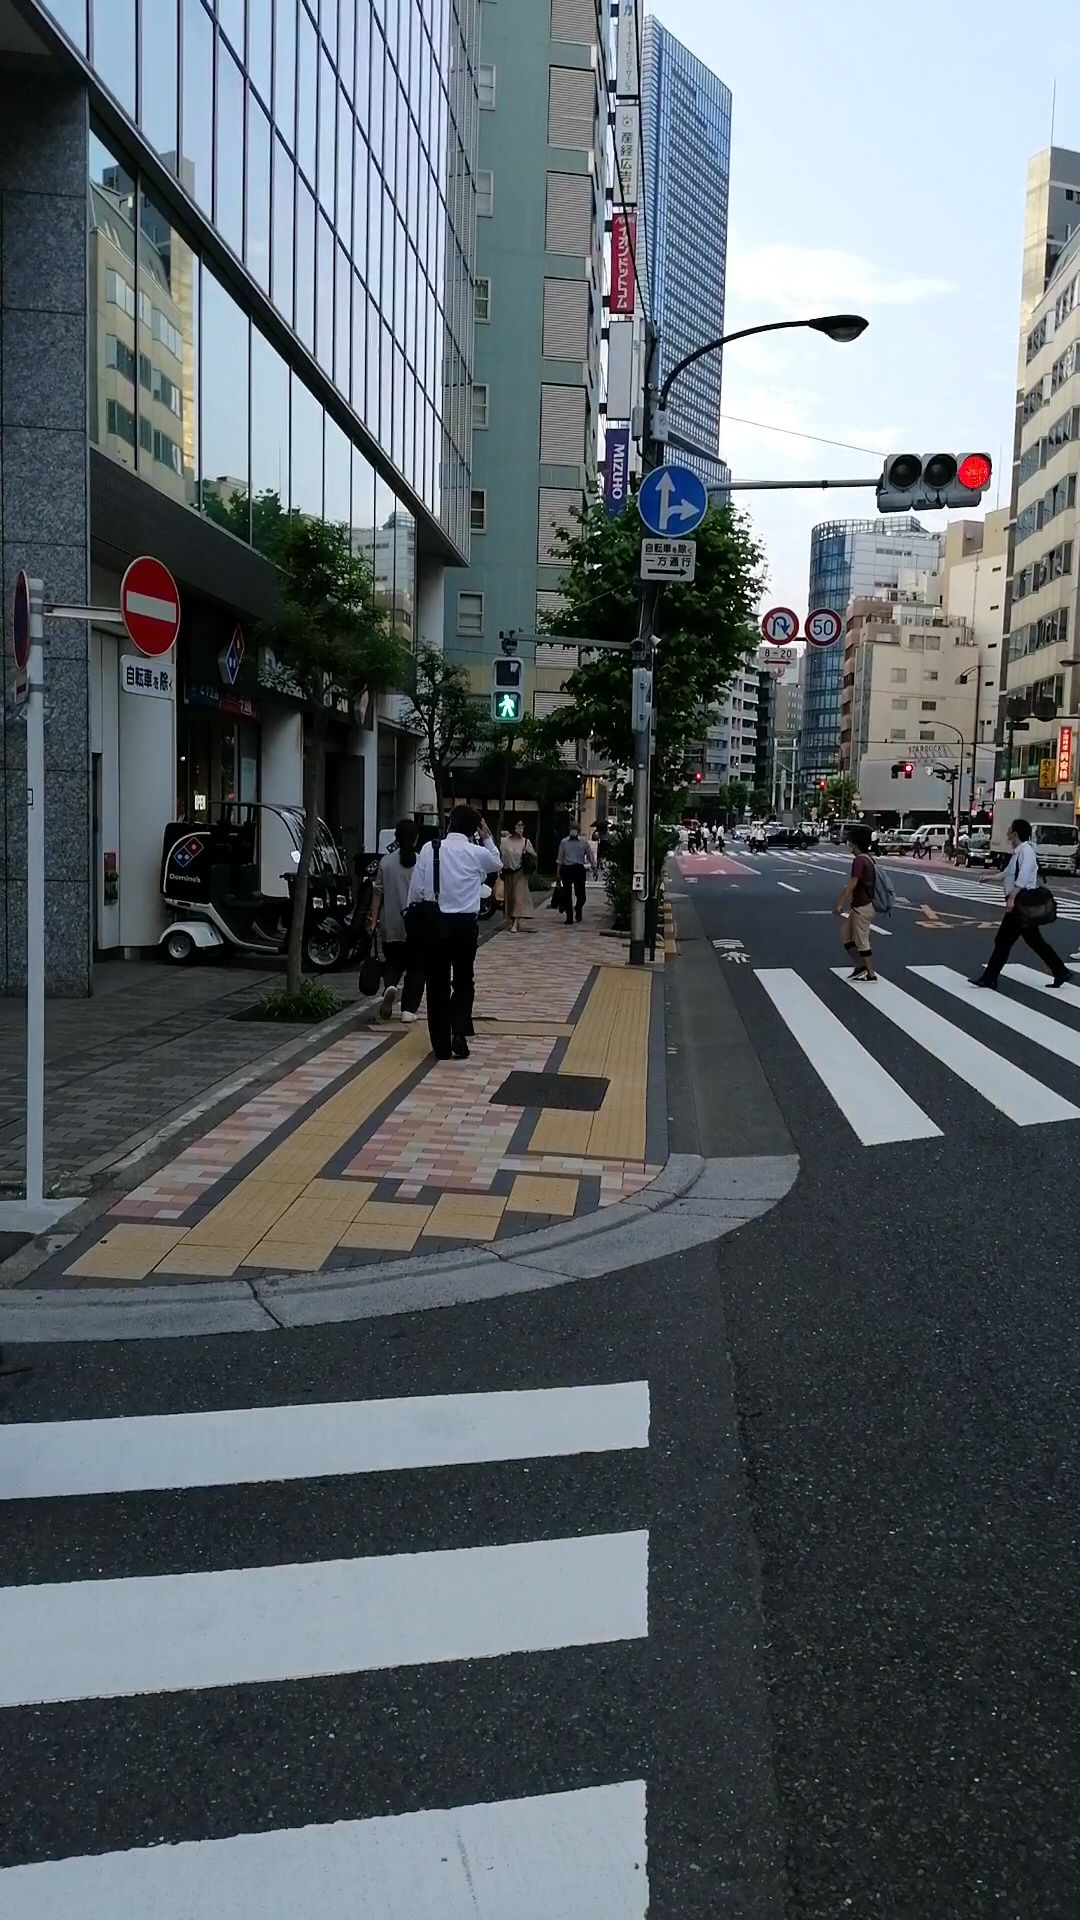green: (488, 657, 524, 723)
